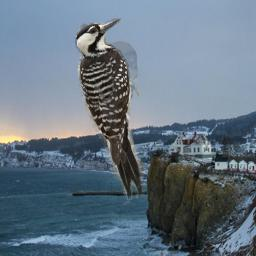Woodpecker: (75, 18, 145, 200)
